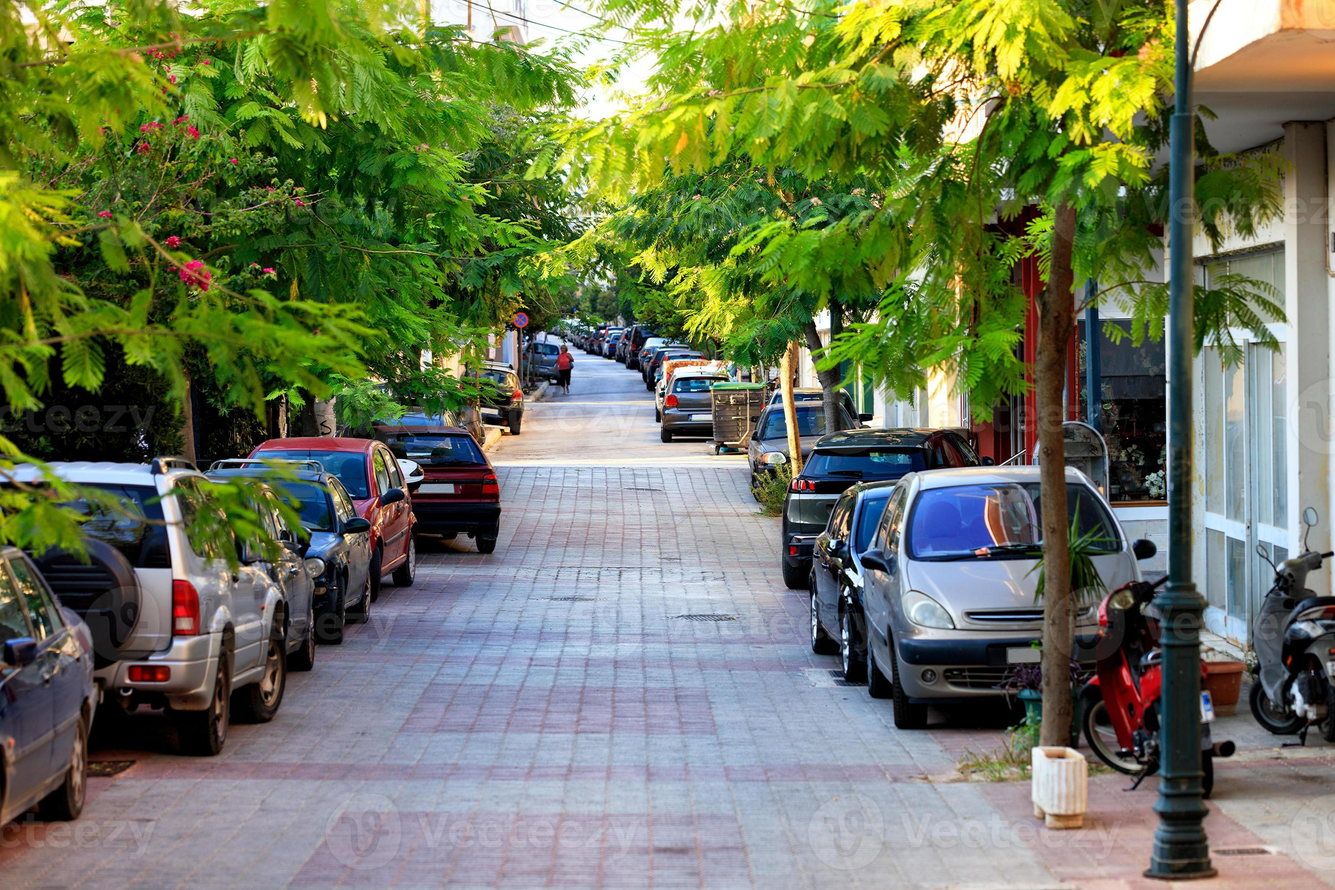Car: (847, 461, 1152, 723), (351, 421, 526, 556), (657, 372, 744, 444)
